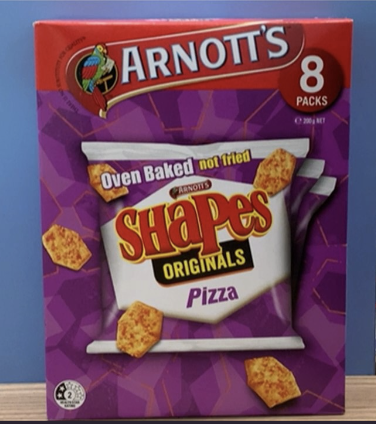crackers_200g-299g: (43, 31, 340, 409)
